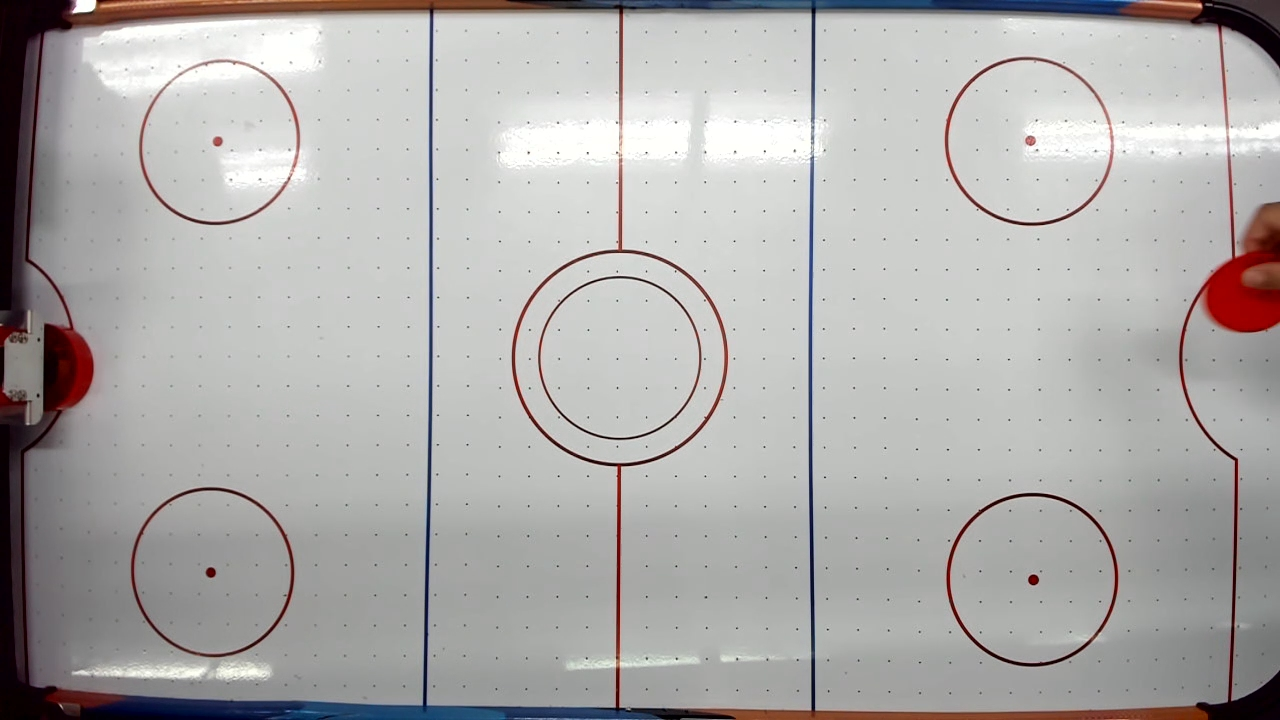ball: (1197, 256, 1280, 340)
